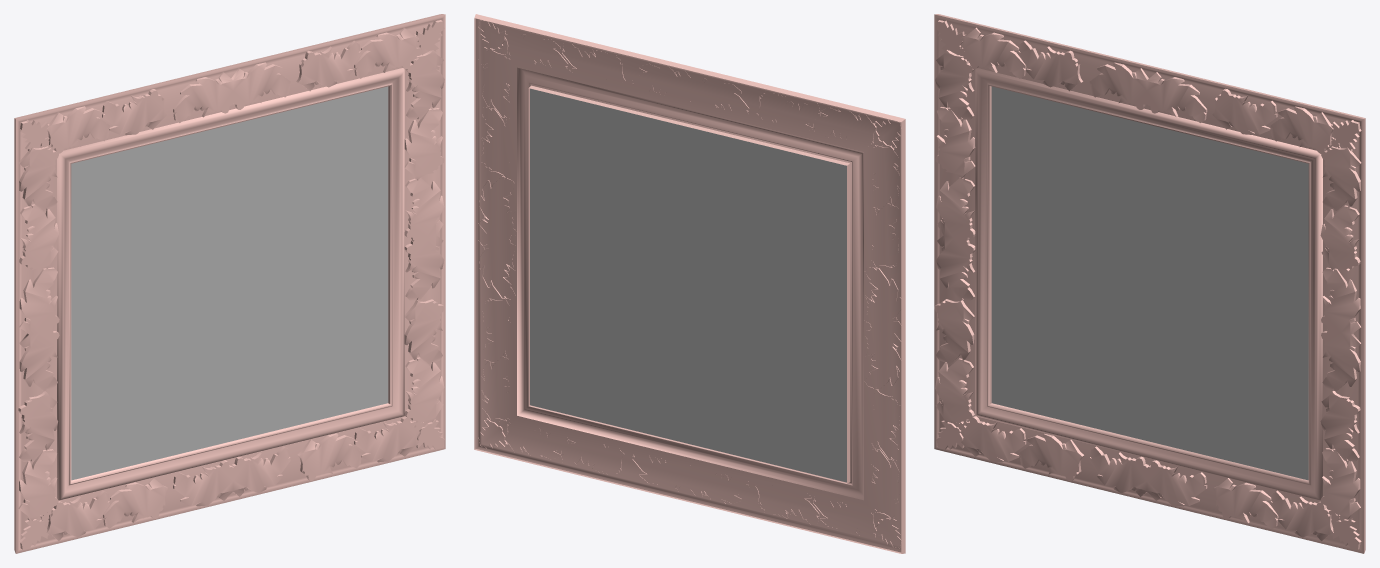
File: picture2.FBX
The picture shows the model from 3 angles, left to right: view 1: azimuth 30°, elevation 25°; view 2: azimuth 150°, elevation 25°; view 3: azimuth 330°, elevation 25°; orthographic projection.
Visible parts, largest first — view 1: Frame; view 2: Frame; view 3: Frame.
Part boxes in pixels (box(x1,y1,x2,y2)): Frame: box(14, 14, 445, 553); Frame: box(474, 14, 905, 553); Frame: box(934, 14, 1365, 553).
Bounding box in the file's own units: 77.71 × 75.11 × 1.68.
